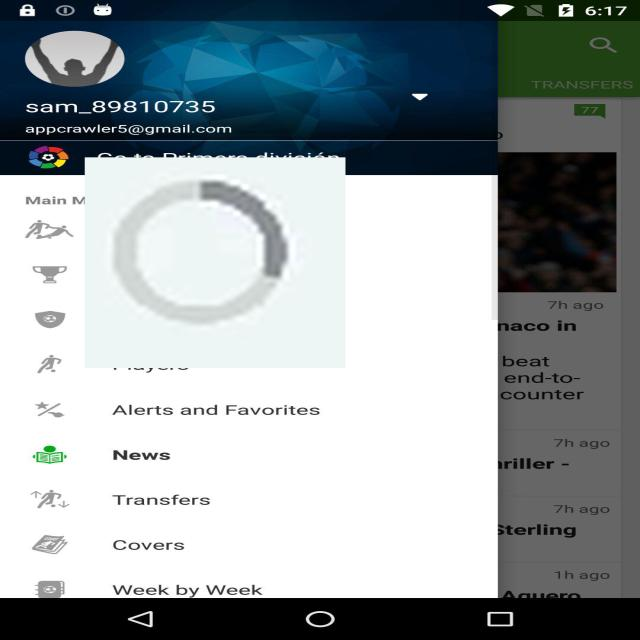misdirection: (85, 157, 345, 368)
